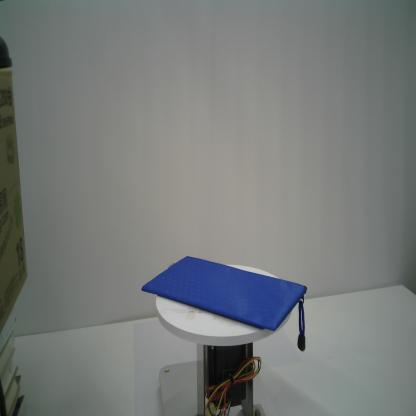Stationery: (142, 255, 307, 355)
